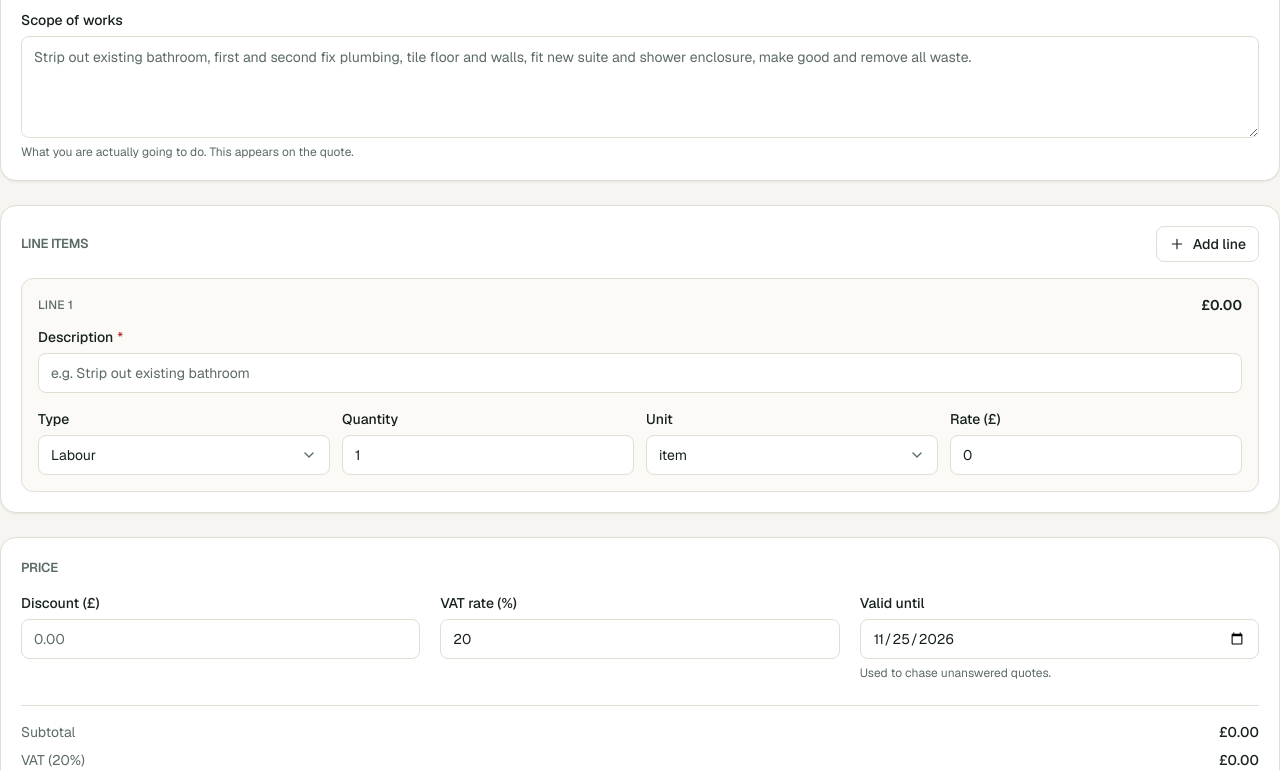
Test case: GeneralQuoteBuilder — Sprint 036 › shows a running total that matches what will be saved
(page scrolled)
Check: the number field labelled "Quantity" is shown, box [342, 434, 634, 474]
In the field labelled "Description": (640,372) [38, 352, 1242, 392], type "Labour"
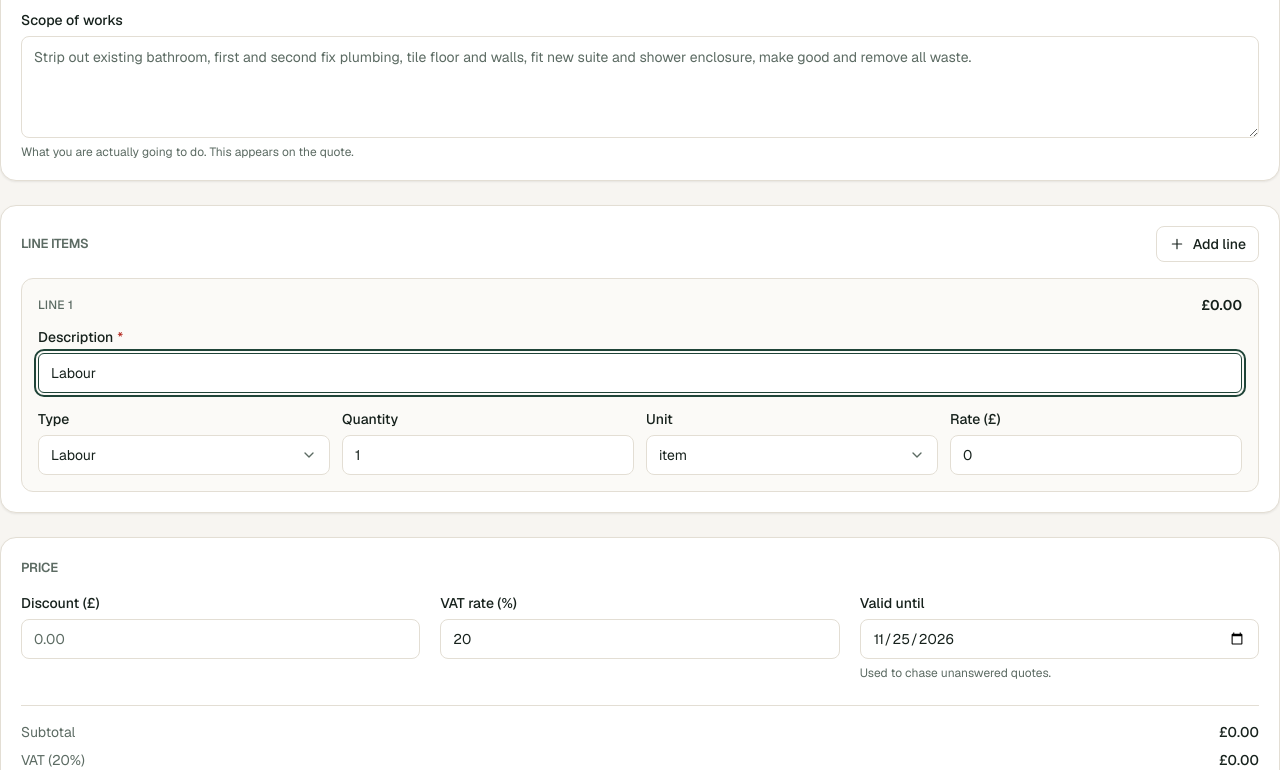
Replace the text in the number field labelled "Quantity" with "2.5": (488,454) [342, 434, 634, 474]
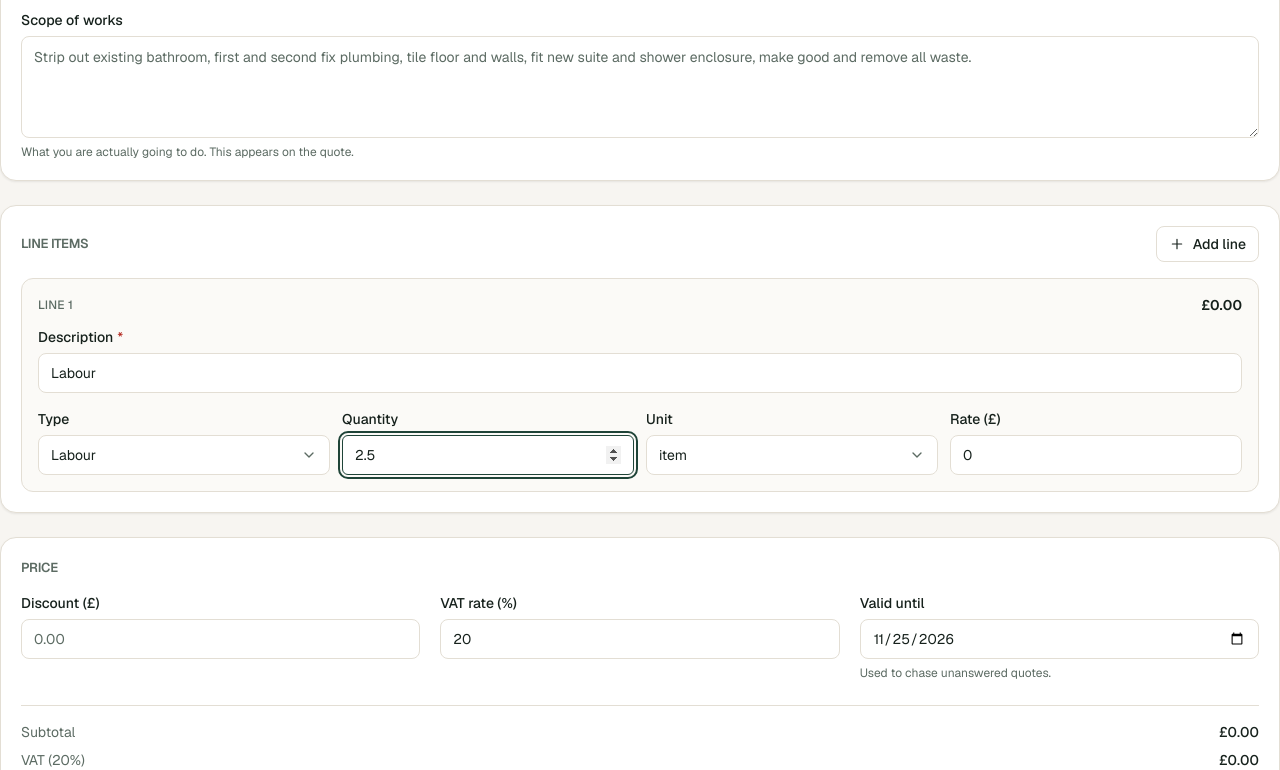
Replace the text in the number field labelled "Rate (£)" with "320": (1096,454) [950, 434, 1242, 474]
(page scrolled)
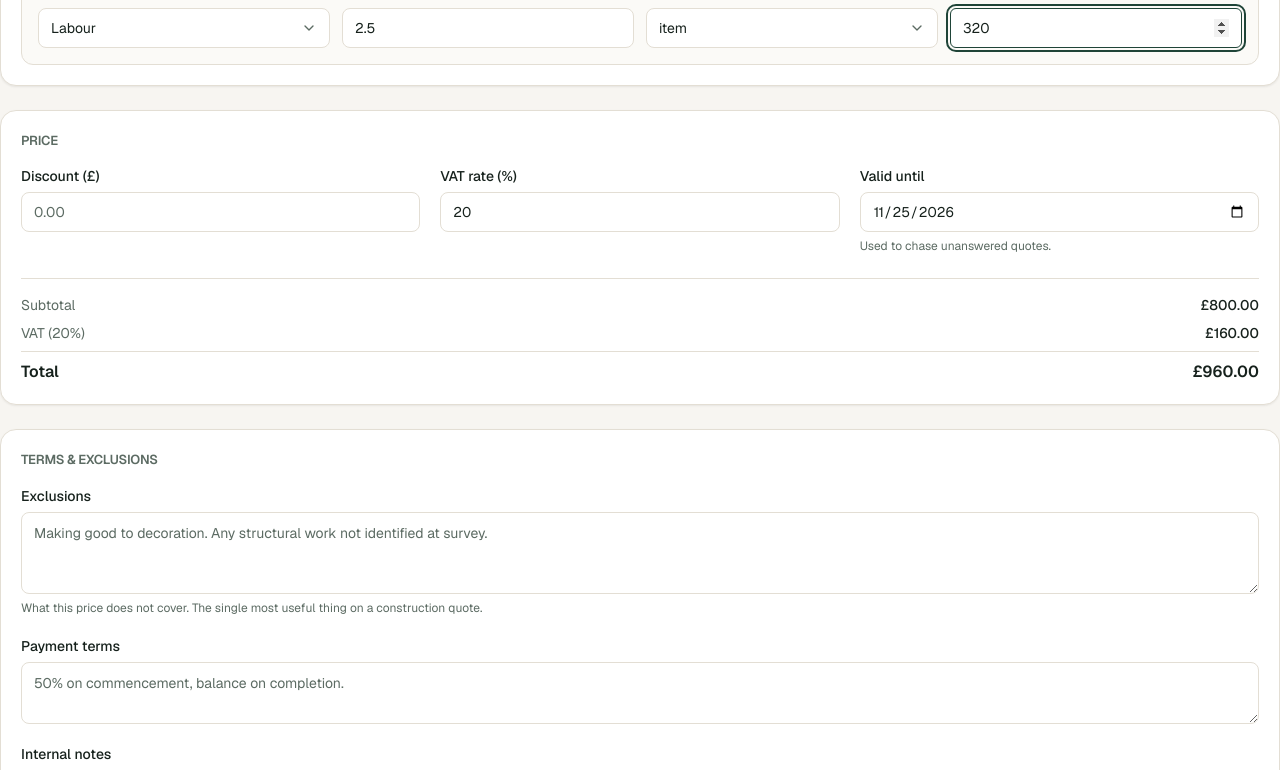
Check: the text "£960.00" is shown, box [1192, 360, 1259, 384]
